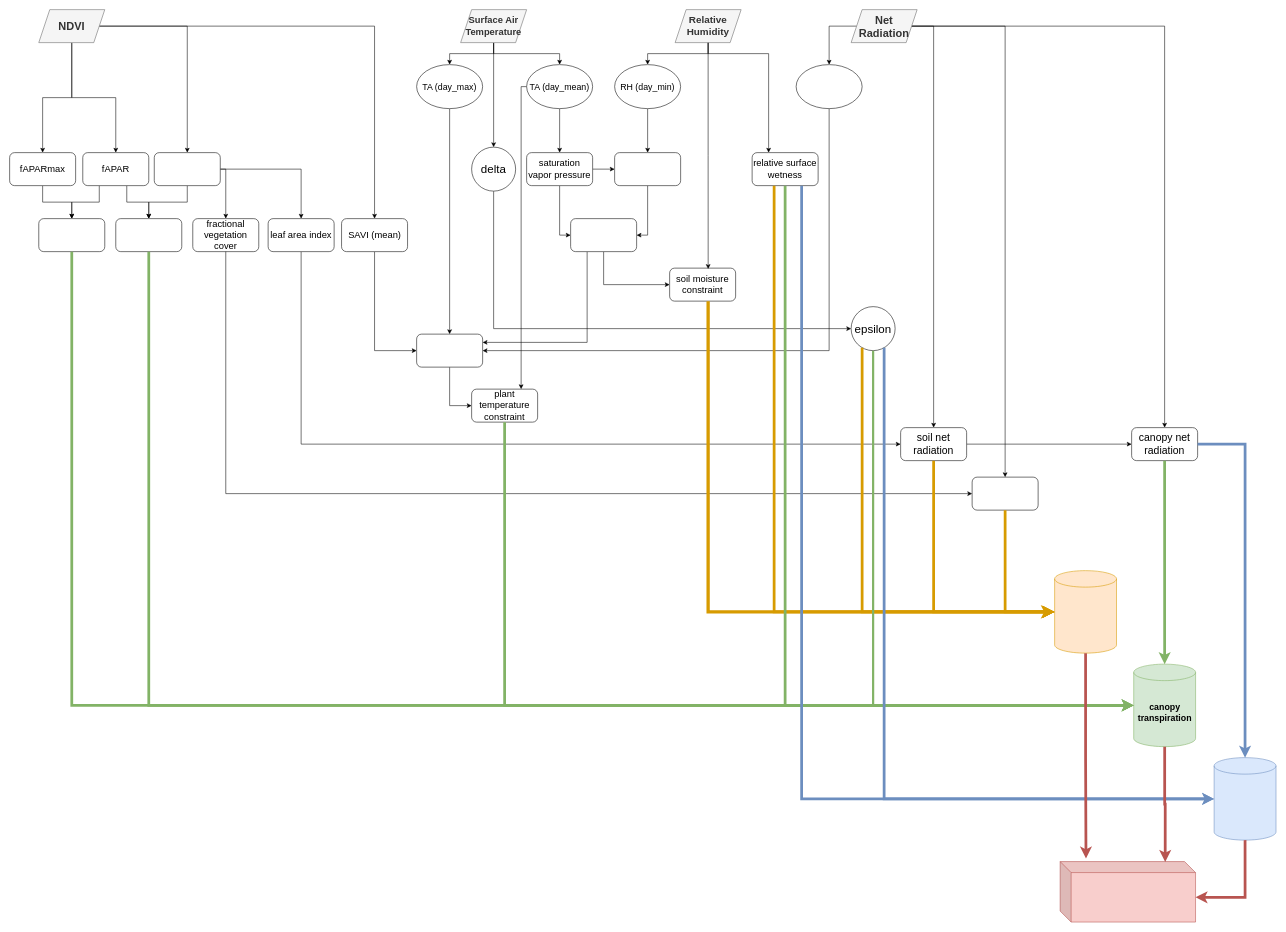
Image size: 1286x932. Some labels were removed from this diagram. The centre of each missing label's shape, as x and y in pixels:
fIPAR: (x=187, y=169)
green canopy fraction: (x=148, y=235)
interception evaporation: (x=1245, y=798)
NETRAD_day: (x=829, y=86)
optimum temperature: (x=449, y=350)
plant moisture constraint: (x=71, y=235)
soil evaporation: (x=1085, y=611)
soil heat flux: (x=1005, y=493)
total evapotranspiration: (x=1128, y=891)
vapor pressure deficit: (x=603, y=235)
water vapor pressure (mean): (x=647, y=169)
